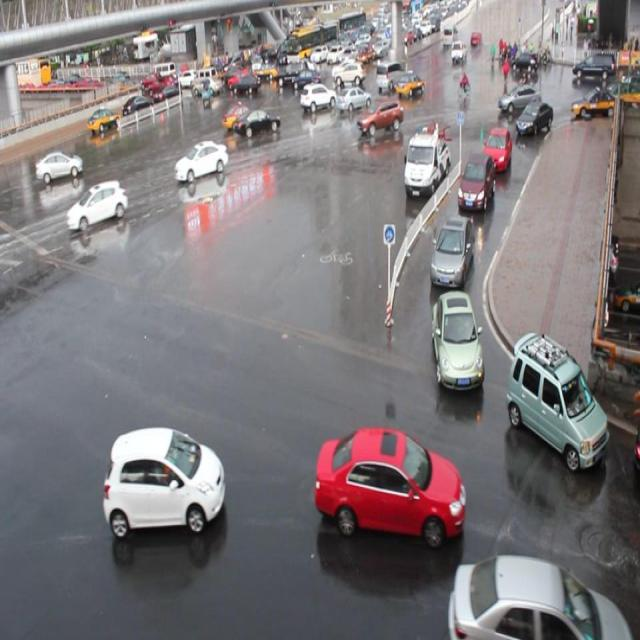bus: (402, 133, 450, 199)
car: (314, 423, 464, 545), (446, 552, 627, 640), (505, 330, 608, 468), (103, 424, 224, 535), (430, 287, 484, 392), (428, 212, 472, 286), (65, 180, 128, 228), (457, 152, 495, 213), (174, 141, 228, 181), (357, 96, 403, 134), (35, 147, 83, 182), (514, 98, 553, 137), (498, 82, 540, 116), (482, 125, 512, 172), (237, 106, 279, 138), (300, 80, 336, 112), (335, 84, 372, 113), (221, 102, 257, 128)
